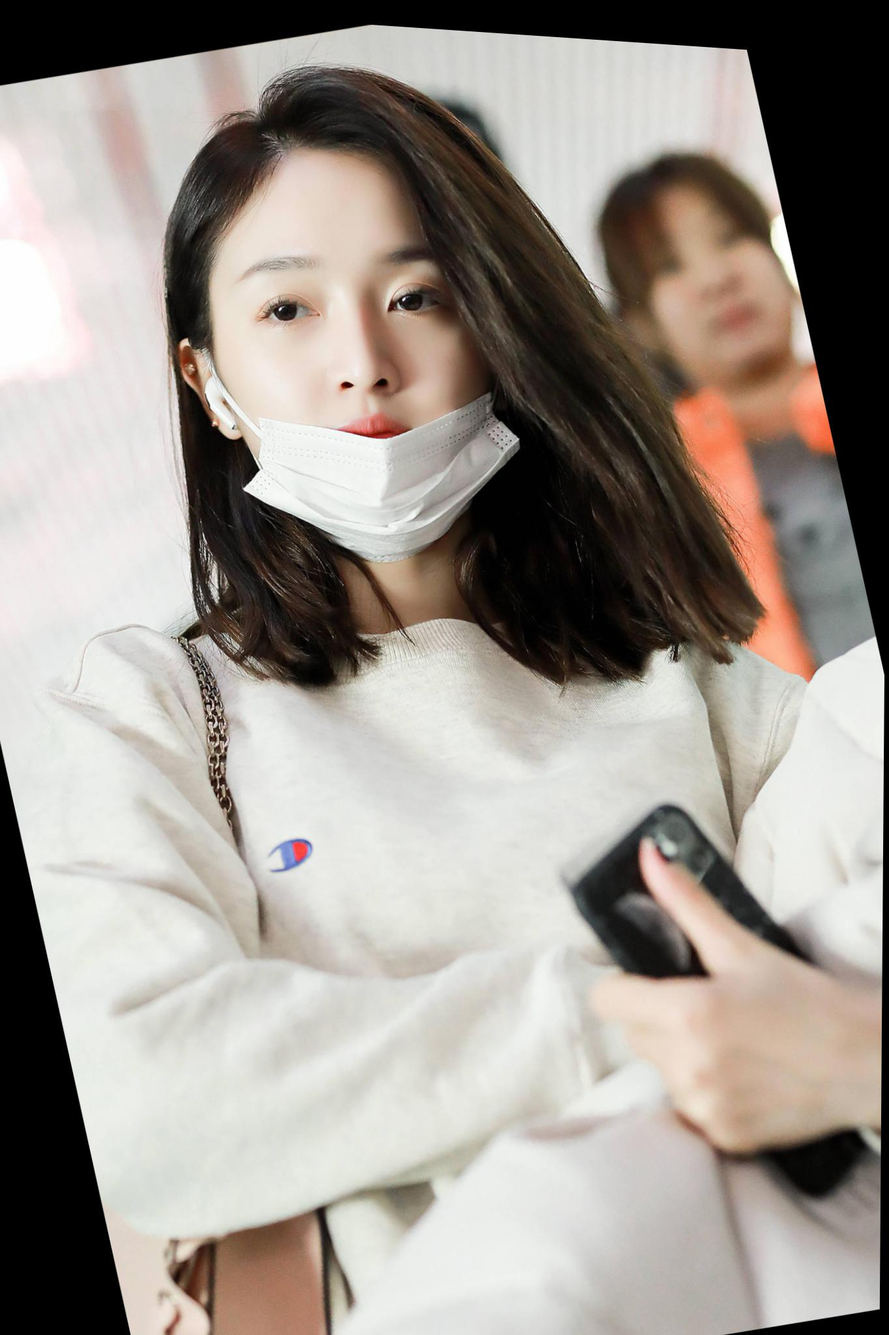WRONG: (192, 169, 525, 551), (630, 185, 802, 377)
